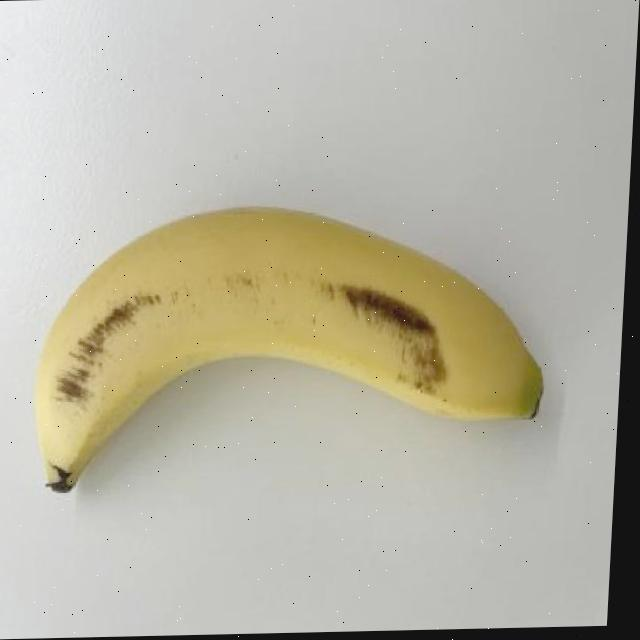banana: (23, 189, 559, 500)
